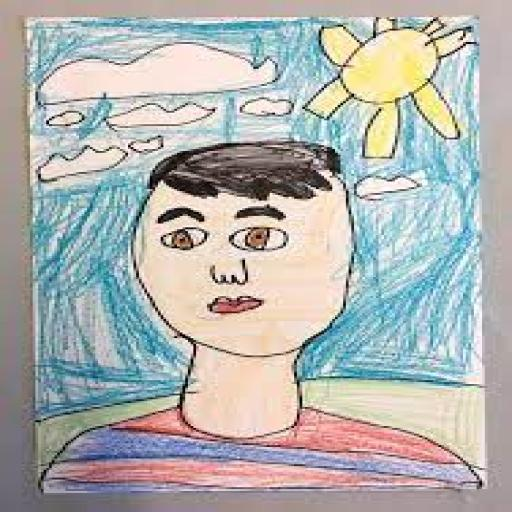person: (42, 138, 474, 492)
